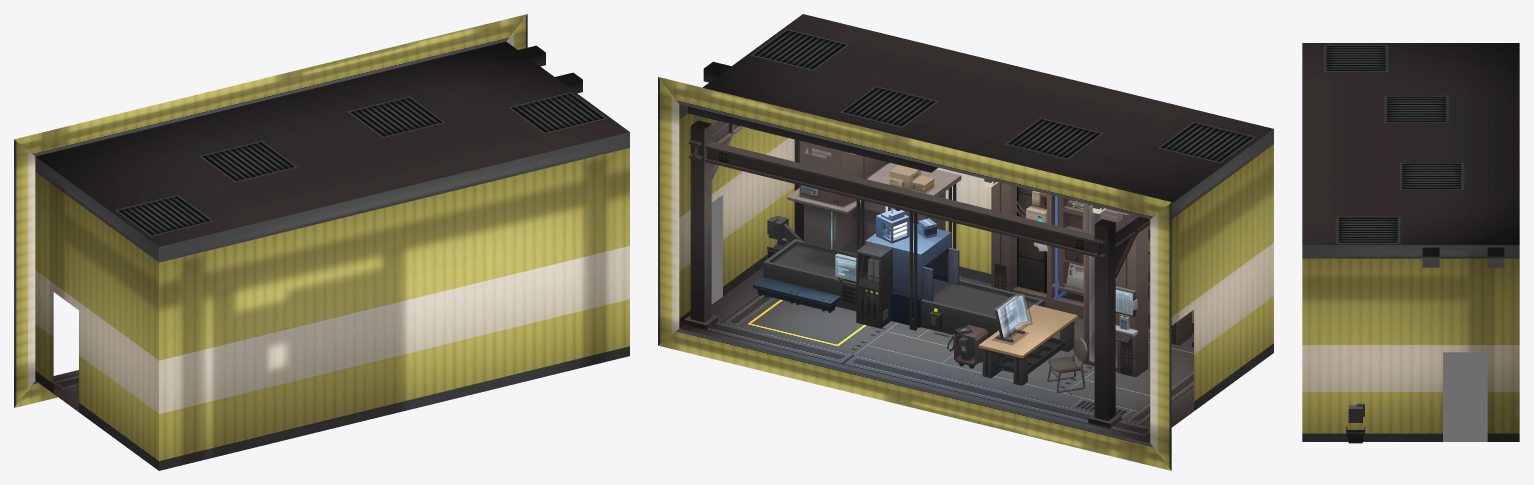
File: workshop.glb
3 renders of one model, left to right at view 1: azimuth 30°, elevation 25°; view 2: azimuth 150°, elevation 25°; view 3: azimuth 270°, elevation 25°, orthographic. The views are drawn at different scales.
Visible parts, largest first — view 1: SHELL_room_01, SHELL_room_02, OBJ_room_inner_4x2x2_workshop_01; view 2: SHELL_room_01, OBJ_room_inner_4x2x2_workshop_01, SHELL_room_02, OBJ_room_inner_4x2x2_workshop_02, SHELL_LDoor, OBJ_room_inner_4x2x2_workshop_04; view 3: SHELL_room_01, SHELL_LDoor, OBJ_room_inner_4x2x2_workshop_01.
Part boxes in pixels (x1,y1,x2,y2): SHELL_room_01: [35, 41, 629, 470]; SHELL_room_02: [14, 14, 527, 407]; OBJ_room_inner_4x2x2_workshop_01: [518, 45, 582, 93]; SHELL_room_01: [679, 14, 1273, 442]; OBJ_room_inner_4x2x2_workshop_01: [684, 61, 1193, 428]; SHELL_room_02: [658, 77, 1171, 470]; OBJ_room_inner_4x2x2_workshop_02: [801, 185, 1150, 362]; SHELL_LDoor: [711, 195, 722, 304]; OBJ_room_inner_4x2x2_workshop_04: [1089, 210, 1117, 366]; SHELL_room_01: [1302, 43, 1519, 441]; SHELL_LDoor: [1443, 352, 1487, 441]; OBJ_room_inner_4x2x2_workshop_01: [1346, 247, 1504, 443].
Bounding box in the file's own units: 5.28 × 2.64 × 2.2.
Materials: 8 (8 with a texture image).
